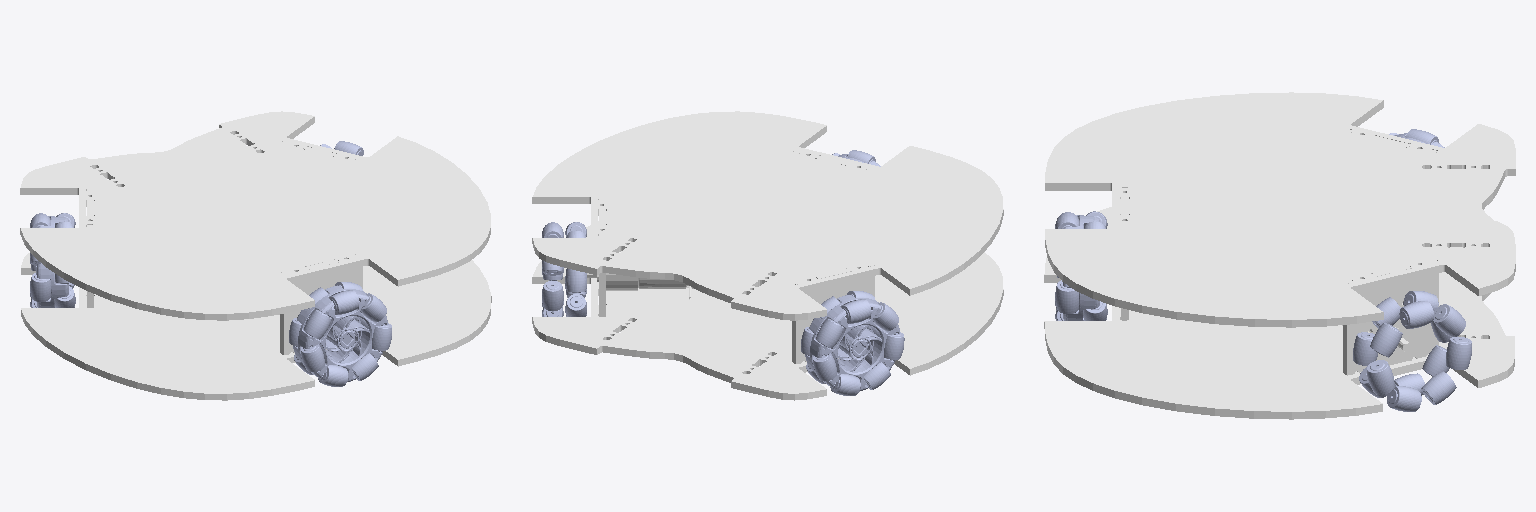
--- What the picture shows (computed from the rendered views, not written in the file) ---
3 views of the same robot in one strip: view 1: azimuth 30°, elevation 25°; view 2: azimuth 150°, elevation 25°; view 3: azimuth 270°, elevation 25° (orthographic).
Model test with 46 links and 45 joints (45 continuous), rooted at base_link, posed all joints at 0.
Links seen in each view (by area): view 1: base_link, Omniwheel2, Omniwheel1, Roller26, Roller27; view 2: base_link, Omniwheel1, Roller32, Roller16, Roller17; view 3: base_link, Roller35, Roller37, Roller32, Roller31, Roller34, Roller33, Roller36, Omniwheel2, Roller313, Roller22, Roller310.
Link boxes in pixels (left/top/right/bottom): base_link: left=20, top=111, right=491, bottom=400; Omniwheel2: left=293, top=285, right=387, bottom=381; Omniwheel1: left=36, top=216, right=68, bottom=307; Roller26: left=304, top=310, right=331, bottom=339; Roller27: left=330, top=290, right=358, bottom=314; base_link: left=532, top=111, right=1003, bottom=400; Omniwheel1: left=805, top=295, right=899, bottom=391; Roller32: left=542, top=281, right=563, bottom=310; Roller16: left=816, top=319, right=843, bottom=348; Roller17: left=842, top=299, right=871, bottom=323; base_link: left=1044, top=92, right=1515, bottom=419; Roller35: left=1367, top=360, right=1394, bottom=394; Roller37: left=1399, top=301, right=1433, bottom=328; Roller32: left=1446, top=337, right=1471, bottom=369; Roller31: left=1433, top=304, right=1465, bottom=336; Roller34: left=1387, top=386, right=1421, bottom=411; Roller33: left=1421, top=371, right=1456, bottom=404; Roller36: left=1370, top=323, right=1402, bottom=357; Omniwheel2: left=1063, top=215, right=1099, bottom=320; Roller313: left=1353, top=332, right=1377, bottom=365; Roller22: left=1055, top=280, right=1078, bottom=313; Roller310: left=1422, top=345, right=1449, bottom=376.
Bounding box of the posed robot: 0.3188 × 0.2788 × 0.077 m (x, y, z).
Meshes: 46 distinct files referenced, 45 mesh visuals loaded (45 binary STL); not drawn: 1 (reference not matched to a file when rendering).

The robot description file, URDF, robot "test":
<?xml version="1.0"?>
<robot
  name="test">
  <link
    name="base_link">
    <inertial>
      <origin
        xyz="0.135454608912068 -0.254330578207179 0.19184296731081"
        rpy="0 0 0" />
      <mass
        value="0.896698981932657" />
      <inertia
        ixx="0.00477033286145432"
        ixy="-1.09784258929473E-06"
        ixz="9.96523019987134E-07"
        iyy="0.00587551915336671"
        iyz="3.87423949994858E-06"
        izz="0.00937782568031088" />
    </inertial>
    <visual>
      <origin
        xyz="0 0 0"
        rpy="0 0 0" />
      <geometry>
        <mesh
          filename="package://robotont_description/meshes/base_link.STL" />
      </geometry>
      <material
        name="">
        <color
          rgba="1 1 1 1" />
      </material>
    </visual>
    <collision>
      <origin
        xyz="0 0 0"
        rpy="0 0 0" />
      <geometry>
        <mesh
          filename="package://robotont_description/meshes/base_link.STL" />
      </geometry>
    </collision>
  </link>
  <link
    name="Omniwheel1">
    <inertial>
      <origin
        xyz="5.51113170932371E-08 6.17646006839667E-07 -9.66083362752279E-08"
        rpy="0 0 0" />
      <mass
        value="0.0224355329965772" />
      <inertia
        ixx="5.90693784127277E-06"
        ixy="2.47484572726089E-10"
        ixz="4.4624205190751E-11"
        iyy="5.90478833236192E-06"
        iyz="1.76931517153296E-10"
        izz="1.03011794339244E-05" />
    </inertial>
    <visual>
      <origin
        xyz="0 0 0"
        rpy="0 0 0" />
      <geometry>
        <mesh
          filename="package://robotont_description/meshes/Omniwheel1.STL" />
      </geometry>
      <material
        name="">
        <color
          rgba="0.792156862745098 0.819607843137255 0.933333333333333 1" />
      </material>
    </visual>
    <collision>
      <origin
        xyz="0 0 0"
        rpy="0 0 0" />
      <geometry>
        <mesh
          filename="package://robotont_description/meshes/Omniwheel1.STL" />
      </geometry>
    </collision>
  </link>
  <joint
    name="Axle1"
    type="continuous">
    <origin
      xyz="0.022326481506329 -0.176779457314387 0.182850551353376"
      rpy="1.5707963267949 0.836473203822852 -2.09439510239319" />
    <parent
      link="base_link" />
    <child
      link="Omniwheel1" />
    <axis
      xyz="0 0 -1" />
  </joint>
  <link
    name="Roller11">
    <inertial>
      <origin
        xyz="0.0090562476933763 -6.24358922374224E-06 2.4370655343775E-07"
        rpy="0 0 0" />
      <mass
        value="0.00222805970857661" />
      <inertia
        ixx="6.29206948993392E-08"
        ixy="4.88962427812512E-13"
        ixz="3.19630145455555E-12"
        iyy="8.63043199686779E-08"
        iyz="6.68903337025076E-13"
        izz="8.63116179634987E-08" />
    </inertial>
    <visual>
      <origin
        xyz="0 0 0"
        rpy="0 0 0" />
      <geometry>
        <mesh
          filename="package://robotont_description/meshes/Roller11.STL" />
      </geometry>
      <material
        name="">
        <color
          rgba="0.792156862745098 0.819607843137255 0.933333333333333 1" />
      </material>
    </visual>
    <collision>
      <origin
        xyz="0 0 0"
        rpy="0 0 0" />
      <geometry>
        <mesh
          filename="package://robotont_description/meshes/Roller11.STL" />
      </geometry>
    </collision>
  </link>
  <joint
    name="Roller11"
    type="continuous">
    <origin
      xyz="-0.00905600884677152 0.0275059261982972 0.00800224940532278"
      rpy="0.362770953244145 -2.22044604925031E-16 1.0547118733939E-15" />
    <parent
      link="Omniwheel1" />
    <child
      link="Roller11" />
    <axis
      xyz="-1 0 0" />
  </joint>
  <link
    name="Roller12">
    <inertial>
      <origin
        xyz="0.00905625003048635 -6.24642743179971E-06 7.53208425380292E-07"
        rpy="0 0 0" />
      <mass
        value="0.00222805300985277" />
      <inertia
        ixx="6.29215432528039E-08"
        ixy="5.17309284687423E-13"
        ixz="2.31231138228572E-12"
        iyy="8.63038695173611E-08"
        iyz="7.08851473534721E-13"
        izz="8.63126289968283E-08" />
    </inertial>
    <visual>
      <origin
        xyz="0 0 0"
        rpy="0 0 0" />
      <geometry>
        <mesh
          filename="package://robotont_description/meshes/Roller12.STL" />
      </geometry>
      <material
        name="">
        <color
          rgba="0.792156862745098 0.819607843137255 0.933333333333333 1" />
      </material>
    </visual>
    <collision>
      <origin
        xyz="0 0 0"
        rpy="0 0 0" />
      <geometry>
        <mesh
          filename="package://robotont_description/meshes/Roller12.STL" />
      </geometry>
    </collision>
  </link>
  <joint
    name="Roller12"
    type="continuous">
    <origin
      xyz="0.0158586698947665 0.0242299372972322 0.00800224940532278"
      rpy="0.362770953711663 4.96327464162194E-05 -0.897579061938864" />
    <parent
      link="Omniwheel1" />
    <child
      link="Roller12" />
    <axis
      xyz="-0.99999999859084 0 -5.30878583583499E-05" />
  </joint>
  <link
    name="Roller13">
    <inertial>
      <origin
        xyz="0.00905624899799087 -6.24372596449985E-06 6.5074332976367E-07"
        rpy="0 0 0" />
      <mass
        value="0.00222805817486766" />
      <inertia
        ixx="6.2920956704011E-08"
        ixy="4.92440082823917E-13"
        ixz="2.2075654857175E-12"
        iyy="8.63043189882584E-08"
        iyz="6.78768649134798E-13"
        izz="8.63118155685825E-08" />
    </inertial>
    <visual>
      <origin
        xyz="0 0 0"
        rpy="0 0 0" />
      <geometry>
        <mesh
          filename="package://robotont_description/meshes/Roller13.STL" />
      </geometry>
      <material
        name="">
        <color
          rgba="0.792156862745098 0.819607843137255 0.933333333333333 1" />
      </material>
    </visual>
    <collision>
      <origin
        xyz="0 0 0"
        rpy="0 0 0" />
      <geometry>
        <mesh
          filename="package://robotont_description/meshes/Roller13.STL" />
      </geometry>
    </collision>
  </link>
  <joint
    name="Roller13"
    type="continuous">
    <origin
      xyz="0.0288314467476335 0.00270831141070441 0.00800224940532276"
      rpy="0.362770953568811 4.136062353274E-05 -1.79518010281175" />
    <parent
      link="Omniwheel1" />
    <child
      link="Roller13" />
    <axis
      xyz="-0.999999999021416 0 -4.42398835954205E-05" />
  </joint>
  <link
    name="Roller14">
    <inertial>
      <origin
        xyz="0.00905624982969072 -6.24595132203698E-06 6.17445233580538E-07"
        rpy="0 0 0" />
      <mass
        value="0.00222804814526446" />
      <inertia
        ixx="6.2922151464818E-08"
        ixy="5.00883276809346E-13"
        ixz="2.98267698300251E-12"
        iyy="8.63035277887356E-08"
        iyz="7.65745141657323E-13"
        izz="8.6313410072764E-08" />
    </inertial>
    <visual>
      <origin
        xyz="0 0 0"
        rpy="0 0 0" />
      <geometry>
        <mesh
          filename="package://robotont_description/meshes/Roller14.STL" />
      </geometry>
      <material
        name="">
        <color
          rgba="0.792156862745098 0.819607843137255 0.933333333333333 1" />
      </material>
    </visual>
    <collision>
      <origin
        xyz="0 0 0"
        rpy="0 0 0" />
      <geometry>
        <mesh
          filename="package://robotont_description/meshes/Roller14.STL" />
      </geometry>
    </collision>
  </link>
  <joint
    name="Roller14"
    type="continuous">
    <origin
      xyz="0.0200935561451987 -0.0208527282075686 0.00800224940532276"
      rpy="0.36277095345193 3.30884973664274E-05 -2.69278114368587" />
    <parent
      link="Omniwheel1" />
    <child
      link="Roller14" />
    <axis
      xyz="0.999999999373706 0 3.53919053181495E-05" />
  </joint>
  <link
    name="Roller15">
    <inertial>
      <origin
        xyz="0.00905624987976852 -6.24513404964833E-06 4.87126271431215E-07"
        rpy="0 0 0" />
      <mass
        value="0.00222805836001247" />
      <inertia
        ixx="6.29209661808733E-08"
        ixy="6.21947992051887E-13"
        ixz="2.61039403778903E-12"
        iyy="8.6304315415605E-08"
        iyz="8.09887301604748E-13"
        izz="8.63117986071289E-08" />
    </inertial>
    <visual>
      <origin
        xyz="0 0 0"
        rpy="0 0 0" />
      <geometry>
        <mesh
          filename="package://robotont_description/meshes/Roller15.STL" />
      </geometry>
      <material
        name="">
        <color
          rgba="0.792156862745098 0.819607843137255 0.933333333333333 1" />
      </material>
    </visual>
    <collision>
      <origin
        xyz="0 0 0"
        rpy="0 0 0" />
      <geometry>
        <mesh
          filename="package://robotont_description/meshes/Roller15.STL" />
      </geometry>
    </collision>
  </link>
  <joint
    name="Roller15"
    type="continuous">
    <origin
      xyz="-0.00377519206841899 -0.0287112381674063 0.00800224940532274"
      rpy="0.362770953361024 2.48163744035266E-05 2.6928031226208" />
    <parent
      link="Omniwheel1" />
    <child
      link="Roller15" />
    <axis
      xyz="0.99999999964771 0 2.65439304654308E-05" />
  </joint>
  <link
    name="Roller16">
    <inertial>
      <origin
        xyz="0.00905625171281951 -6.24549699594634E-06 4.67055512903825E-07"
        rpy="0 0 0" />
      <mass
        value="0.00222804542902184" />
      <inertia
        ixx="6.29227702499175E-08"
        ixy="4.97216980945624E-13"
        ixz="3.4246678879344E-12"
        iyy="8.63036751661587E-08"
        iyz="7.99146560214892E-13"
        izz="8.63137764245749E-08" />
    </inertial>
    <visual>
      <origin
        xyz="0 0 0"
        rpy="0 0 0" />
      <geometry>
        <mesh
          filename="package://robotont_description/meshes/Roller16.STL" />
      </geometry>
      <material
        name="">
        <color
          rgba="0.792156862745098 0.819607843137255 0.933333333333333 1" />
      </material>
    </visual>
    <collision>
      <origin
        xyz="0 0 0"
        rpy="0 0 0" />
      <geometry>
        <mesh
          filename="package://robotont_description/meshes/Roller16.STL" />
      </geometry>
    </collision>
  </link>
  <joint
    name="Roller16"
    type="continuous">
    <origin
      xyz="-0.0248011436546332 -0.0149496001846614 0.00800224940532276"
      rpy="0.362770953296091 1.65442494603261E-05 1.79520208174714" />
    <parent
      link="Omniwheel1" />
    <child
      link="Roller16" />
    <axis
      xyz="0.999999999843426 0 1.76959534931714E-05" />
  </joint>
  <link
    name="Roller17">
    <inertial>
      <origin
        xyz="0.00905624714251091 -6.24411402405656E-06 3.31840344425238E-07"
        rpy="0 0 0" />
      <mass
        value="0.00222805825576709" />
      <inertia
        ixx="6.29207927439633E-08"
        ixy="5.05419677413105E-13"
        ixz="3.13865668059066E-12"
        iyy="8.63040811412927E-08"
        iyz="7.29478493580458E-13"
        izz="8.63119038700248E-08" />
    </inertial>
    <visual>
      <origin
        xyz="0 0 0"
        rpy="0 0 0" />
      <geometry>
        <mesh
          filename="package://robotont_description/meshes/Roller17.STL" />
      </geometry>
      <material
        name="">
        <color
          rgba="0.792156862745098 0.819607843137255 0.933333333333333 1" />
      </material>
    </visual>
    <collision>
      <origin
        xyz="0 0 0"
        rpy="0 0 0" />
      <geometry>
        <mesh
          filename="package://robotont_description/meshes/Roller17.STL" />
      </geometry>
    </collision>
  </link>
  <joint
    name="Roller17"
    type="continuous">
    <origin
      xyz="-0.0271513282177754 0.0100693916534027 0.00800224940532278"
      rpy="0.362770953257132 8.27212416175113E-06 0.897601040873349" />
    <parent
      link="Omniwheel1" />
    <child
      link="Roller17" />
    <axis
      xyz="-0.222517872822441 0.911476772960516 -0.345970936103106" />
  </joint>
  <link
    name="Roller18">
    <inertial>
      <origin
        xyz="0.00905625145856824 -6.24761901268922E-06 1.0163672875263E-06"
        rpy="0 0 0" />
      <mass
        value="0.00222804667573871" />
      <inertia
        ixx="6.29224688547726E-08"
        ixy="5.17012520909878E-13"
        ixz="1.97593000955424E-12"
        iyy="8.63035856870094E-08"
        iyz="7.59631533987743E-13"
        izz="8.63135844877172E-08" />
    </inertial>
    <visual>
      <origin
        xyz="0 0 0"
        rpy="0 0 0" />
      <geometry>
        <mesh
          filename="package://robotont_description/meshes/Roller18.STL" />
      </geometry>
      <material
        name="">
        <color
          rgba="0.792156862745098 0.819607843137255 0.933333333333333 1" />
      </material>
    </visual>
    <collision>
      <origin
        xyz="0 0 0"
        rpy="0 0 0" />
      <geometry>
        <mesh
          filename="package://robotont_description/meshes/Roller18.STL" />
      </geometry>
    </collision>
  </link>
  <joint
    name="Roller18"
    type="continuous">
    <origin
      xyz="-0.00377094534323913 0.0287024197517056 -0.00799497322847986"
      rpy="0.915756260970597 4.81813406636344E-05 -2.69273098229598" />
    <parent
      link="Omniwheel1" />
    <child
      link="Roller18" />
    <axis
      xyz="0.999999996872331 0 7.90906943926584E-05" />
  </joint>
  <link
    name="Roller19">
    <inertial>
      <origin
        xyz="0.00905625100119239 -6.24603636639742E-06 7.84478363977104E-07"
        rpy="0 0 0" />
      <mass
        value="0.00222805805773092" />
      <inertia
        ixx="6.29210768819761E-08"
        ixy="5.50551055703456E-13"
        ixz="1.81992887215392E-12"
        iyy="8.63044063542196E-08"
        iyz="7.21834398562332E-13"
        izz="8.63117964118533E-08" />
    </inertial>
    <visual>
      <origin
        xyz="0 0 0"
        rpy="0 0 0" />
      <geometry>
        <mesh
          filename="package://robotont_description/meshes/Roller19.STL" />
      </geometry>
      <material
        name="">
        <color
          rgba="0.792156862745098 0.819607843137255 0.933333333333333 1" />
      </material>
    </visual>
    <collision>
      <origin
        xyz="0 0 0"
        rpy="0 0 0" />
      <geometry>
        <mesh
          filename="package://robotont_description/meshes/Roller19.STL" />
      </geometry>
    </collision>
  </link>
  <joint
    name="Roller19"
    type="continuous">
    <origin
      xyz="0.0200893094200195 0.0208439097918678 -0.00799497322847988"
      rpy="0.915756260309541 3.61360050554162E-05 2.69284074366209" />
    <parent
      link="Omniwheel1" />
    <child
      link="Roller19" />
    <axis
      xyz="0.999999998240686 0 5.93180200797877E-05" />
  </joint>
  <link
    name="Roller110">
    <inertial>
      <origin
        xyz="0.00905625316147435 -6.24701480489431E-06 6.53889737821378E-07"
        rpy="0 0 0" />
      <mass
        value="0.00222804736414082" />
      <inertia
        ixx="6.29226595794278E-08"
        ixy="4.5294929858025E-13"
        ixz="2.76577683882858E-12"
        iyy="8.6303969161013E-08"
        iyz="7.09513676744389E-13"
        izz="8.63134357662986E-08" />
    </inertial>
    <visual>
      <origin
        xyz="0 0 0"
        rpy="0 0 0" />
      <geometry>
        <mesh
          filename="package://robotont_description/meshes/Roller110.STL" />
      </geometry>
      <material
        name="">
        <color
          rgba="0.792156862745098 0.819607843137255 0.933333333333333 1" />
      </material>
    </visual>
    <collision>
      <origin
        xyz="0 0 0"
        rpy="0 0 0" />
      <geometry>
        <mesh
          filename="package://robotont_description/meshes/Roller110.STL" />
      </geometry>
    </collision>
  </link>
  <joint
    name="Roller110"
    type="continuous">
    <origin
      xyz="0.0288219044427726 -0.0027104893795199 -0.00799497322847986"
      rpy="0.915756259837358 2.40906703969355E-05 1.79522716244185" />
    <parent
      link="Omniwheel1" />
    <child
      link="Roller110" />
    <axis
      xyz="0.999999999218083 0 3.95453473158447E-05" />
  </joint>
  <link
    name="Roller111">
    <inertial>
      <origin
        xyz="0.00905624625161292 -6.24320986174209E-06 4.21781121529019E-07"
        rpy="0 0 0" />
      <mass
        value="0.00222806016762835" />
      <inertia
        ixx="6.29205128052935E-08"
        ixy="5.80147212656581E-13"
        ixz="2.78720535245339E-12"
        iyy="8.63041758522932E-08"
        iyz="7.96508920863276E-13"
        izz="8.63116044635527E-08" />
    </inertial>
    <visual>
      <origin
        xyz="0 0 0"
        rpy="0 0 0" />
      <geometry>
        <mesh
          filename="package://robotont_description/meshes/Roller111.STL" />
      </geometry>
      <material
        name="">
        <color
          rgba="0.792156862745098 0.819607843137255 0.933333333333333 1" />
      </material>
    </visual>
    <collision>
      <origin
        xyz="0 0 0"
        rpy="0 0 0" />
      <geometry>
        <mesh
          filename="package://robotont_description/meshes/Roller111.STL" />
      </geometry>
    </collision>
  </link>
  <joint
    name="Roller111"
    type="continuous">
    <origin
      xyz="0.0158510175604117 -0.0242238347642219 -0.00799497322847989"
      rpy="0.915756259554049 1.20453338984942E-05 0.897613581219221" />
    <parent
      link="Omniwheel1" />
    <child
      link="Roller111" />
    <axis
      xyz="0.999999999804521 0 1.97726715280566E-05" />
  </joint>
  <link
    name="Roller112">
    <inertial>
      <origin
        xyz="0.00905624618941688 -6.24394835372841E-06 2.1996671284441E-07"
        rpy="0 0 0" />
      <mass
        value="0.00222806454853658" />
      <inertia
        ixx="6.2920067448706E-08"
        ixy="5.35910979423317E-13"
        ixz="2.91645592250475E-12"
        iyy="8.63046137513935E-08"
        iyz="6.6674956740383E-13"
        izz="8.63108639696968E-08" />
    </inertial>
    <visual>
      <origin
        xyz="0 0 0"
        rpy="0 0 0" />
      <geometry>
        <mesh
          filename="package://robotont_description/meshes/Roller112.STL" />
      </geometry>
      <material
        name="">
        <color
          rgba="0.792156862745098 0.819607843137255 0.933333333333333 1" />
      </material>
    </visual>
    <collision>
      <origin
        xyz="0 0 0"
        rpy="0 0 0" />
      <geometry>
        <mesh
          filename="package://robotont_description/meshes/Roller112.STL" />
      </geometry>
    </collision>
  </link>
  <joint
    name="Roller112"
    type="continuous">
    <origin
      xyz="-0.00905600884677145 -0.0274961384952869 -0.00799497322847989"
      rpy="0.915756259459612 -2.77555756156289E-16 1.22124532708767E-15" />
    <parent
      link="Omniwheel1" />
    <child
      link="Roller112" />
    <axis
      xyz="-1 0 0" />
  </joint>
  <link
    name="Roller113">
    <inertial>
      <origin
        xyz="0.00905625195426071 -6.24661762665957E-06 2.74506474134961E-07"
        rpy="0 0 0" />
      <mass
        value="0.00222805215455413" />
      <inertia
        ixx="6.29218607574591E-08"
        ixy="5.18625747546891E-13"
        ixz="3.52160152933215E-12"
        iyy="8.6304043308765E-08"
        iyz="7.34598956848397E-13"
        izz="8.63127290887446E-08" />
    </inertial>
    <visual>
      <origin
        xyz="0 0 0"
        rpy="0 0 0" />
      <geometry>
        <mesh
          filename="package://robotont_description/meshes/Roller113.STL" />
      </geometry>
      <material
        name="">
        <color
          rgba="0.792156862745098 0.819607843137255 0.933333333333333 1" />
      </material>
    </visual>
    <collision>
      <origin
        xyz="0 0 0"
        rpy="0 0 0" />
      <geometry>
        <mesh
          filename="package://robotont_description/meshes/Roller113.STL" />
      </geometry>
    </collision>
  </link>
  <joint
    name="Roller113"
    type="continuous">
    <origin
      xyz="-0.0271436758834209 -0.0100632891203918 -0.00799497322847989"
      rpy="0.915756259459612 1.94289029309402E-16 -0.897597901025656" />
    <parent
      link="Omniwheel1" />
    <child
      link="Roller113" />
    <axis
      xyz="-1 0 0" />
  </joint>
  <link
    name="Roller114">
    <inertial>
      <origin
        xyz="0.00905625010279834 -6.24547053149072E-06 1.19126770442568E-06"
        rpy="0 0 0" />
      <mass
        value="0.00222804854629662" />
      <inertia
        ixx="6.29222349335793E-08"
        ixy="4.15827932836481E-13"
        ixz="1.42816834261541E-12"
        iyy="8.63037292804102E-08"
        iyz="6.82678252433292E-13"
        izz="8.63133359189824E-08" />
    </inertial>
    <visual>
      <origin
        xyz="0 0 0"
        rpy="0 0 0" />
      <geometry>
        <mesh
          filename="package://robotont_description/meshes/Roller114.STL" />
      </geometry>
      <material
        name="">
        <color
          rgba="0.792156862745098 0.819607843137255 0.933333333333333 1" />
      </material>
    </visual>
    <collision>
      <origin
        xyz="0 0 0"
        rpy="0 0 0" />
      <geometry>
        <mesh
          filename="package://robotont_description/meshes/Roller114.STL" />
      </geometry>
    </collision>
  </link>
  <joint
    name="Roller114"
    type="continuous">
    <origin
      xyz="-0.024791601349772 0.0149474222158465 -0.00799497322847989"
      rpy="0.915756261820527 6.02266757044277E-05 -1.79511740107518" />
    <parent
      link="Omniwheel1" />
    <child
      link="Roller114" />
    <axis
      xyz="-0.999999995113017 0 -9.88633677644346E-05" />
  </joint>
  <link
    name="Omniwheel2">
    <inertial>
      <origin
        xyz="5.41212678006886E-08 6.17218780779583E-07 -9.69348333268449E-08"
        rpy="0 0 0" />
      <mass
        value="0.0224355229928124" />
      <inertia
        ixx="5.90693757523995E-06"
        ixy="2.47313010648911E-10"
        ixz="4.42240924361494E-11"
        iyy="5.90478822289202E-06"
        iyz="1.7756477578438E-10"
        izz="1.03011782727051E-05" />
    </inertial>
    <visual>
      <origin
        xyz="0 0 0"
        rpy="0 0 0" />
      <geometry>
        <mesh
          filename="package://robotont_description/meshes/Omniwheel2.STL" />
      </geometry>
      <material
        name="">
        <color
          rgba="0.792156862745098 0.819607843137255 0.933333333333333 1" />
      </material>
    </visual>
    <collision>
      <origin
        xyz="0 0 0"
        rpy="0 0 0" />
      <geometry>
        <mesh
          filename="package://robotont_description/meshes/Omniwheel2.STL" />
      </geometry>
    </collision>
  </link>
  <joint
    name="Axle2"
    type="continuous">
    <origin
      xyz="0.135408219510917 -0.372642772946523 0.182850551353376"
      rpy="1.5707963267949 0.836473203822852 -6.782769887674E-17" />
    <parent
      link="base_link" />
    <child
      link="Omniwheel2" />
    <axis
      xyz="0 0 1" />
  </joint>
  <link
    name="Roller21">
    <inertial>
      <origin
        xyz="0.00905624807800218 -6.24327273396341E-06 2.51589222177717E-07"
        rpy="0 0 0" />
      <mass
        value="0.00222805815295261" />
      <inertia
        ixx="6.29209085009669E-08"
        ixy="4.69761783118323E-13"
        ixz="3.27613725276043E-12"
        iyy="8.63042438269798E-08"
        iyz="6.688918708658E-13"
        izz="8.63118579736287E-08" />
    </inertial>
    <visual>
      <origin
        xyz="0 0 0"
        rpy="0 0 0" />
      <geometry>
        <mesh
          filename="package://robotont_description/meshes/Roller21.STL" />
      </geometry>
      <material
        name="">
        <color
          rgba="0.792156862745098 0.819607843137255 0.933333333333333 1" />
      </material>
    </visual>
    <collision>
      <origin
        xyz="0 0 0"
        rpy="0 0 0" />
      <geometry>
        <mesh
          filename="package://robotont_description/meshes/Roller21.STL" />
      </geometry>
    </collision>
  </link>
  <joint
    name="Roller21"
    type="continuous">
    <origin
      xyz="-0.00905600884677153 0.0275059261982972 0.00800224940532274"
      rpy="0.362770953244145 0 1.11022302462516E-15" />
    <parent
      link="Omniwheel2" />
    <child
      link="Roller21" />
    <axis
      xyz="-1 0 0" />
  </joint>
  <link
    name="Roller22">
    <inertial>
      <origin
        xyz="0.00905625083989886 -6.24661141984673E-06 7.53096852768032E-07"
        rpy="0 0 0" />
      <mass
        value="0.00222805285160954" />
      <inertia
        ixx="6.29216461117548E-08"
        ixy="5.08938350442107E-13"
        ixz="2.28576271572672E-12"
        iyy="8.63039608776603E-08"
        iyz="7.0106194851076E-13"
        izz="8.63126297508331E-08" />
    </inertial>
    <visual>
      <origin
        xyz="0 0 0"
        rpy="0 0 0" />
      <geometry>
        <mesh
          filename="package://robotont_description/meshes/Roller22.STL" />
      </geometry>
      <material
        name="">
        <color
          rgba="0.792156862745098 0.819607843137255 0.933333333333333 1" />
      </material>
    </visual>
    <collision>
      <origin
        xyz="0 0 0"
        rpy="0 0 0" />
      <geometry>
        <mesh
          filename="package://robotont_description/meshes/Roller22.STL" />
      </geometry>
    </collision>
  </link>
  <joint
    name="Roller22"
    type="continuous">
    <origin
      xyz="0.0158586698947665 0.0242299372972323 0.00800224940532274"
      rpy="0.362770953711663 4.96327464161286E-05 -0.897579061938864" />
    <parent
      link="Omniwheel2" />
    <child
      link="Roller22" />
    <axis
      xyz="-0.99999999859084 0 -5.30878583579128E-05" />
  </joint>
  <link
    name="Roller23">
    <inertial>
      <origin
        xyz="0.00905624721180887 -6.24211011457376E-06 6.33942279393285E-07"
        rpy="0 0 0" />
      <mass
        value="0.00222806201419234" />
      <inertia
        ixx="6.29204492785542E-08"
        ixy="5.98048210863455E-13"
        ixz="2.00513142402598E-12"
        iyy="8.63045317982439E-08"
        iyz="7.9198993407818E-13"
        izz="8.631125287325E-08" />
    </inertial>
    <visual>
      <origin
        xyz="0 0 0"
        rpy="0 0 0" />
      <geometry>
        <mesh
          filename="package://robotont_description/meshes/Roller23.STL" />
      </geometry>
      <material
        name="">
        <color
          rgba="0.792156862745098 0.819607843137255 0.933333333333333 1" />
      </material>
    </visual>
    <collision>
      <origin
        xyz="0 0 0"
        rpy="0 0 0" />
      <geometry>
        <mesh
          filename="package://robotont_description/meshes/Roller23.STL" />
      </geometry>
    </collision>
  </link>
  <joint
    name="Roller23"
    type="continuous">
    <origin
      xyz="0.0288314467476335 0.00270831141070441 0.00800224940532274"
      rpy="0.36277095356881 4.13606235323142E-05 -1.79518010281175" />
    <parent
      link="Omniwheel2" />
    <child
      link="Roller23" />
    <axis
      xyz="-0.999999999021416 0 -4.42398835952817E-05" />
  </joint>
  <link
    name="Roller24">
    <inertial>
      <origin
        xyz="0.00905625159806799 -6.24517127065238E-06 6.06707110051286E-07"
        rpy="0 0 0" />
      <mass
        value="0.00222804994084183" />
      <inertia
        ixx="6.2922151116949E-08"
        ixy="5.23614956504236E-13"
        ixz="2.81020935708934E-12"
        iyy="8.63039044385424E-08"
        iyz="7.92724737626576E-13"
        izz="8.63130949111851E-08" />
    </inertial>
    <visual>
      <origin
        xyz="0 0 0"
        rpy="0 0 0" />
      <geometry>
        <mesh
          filename="package://robotont_description/meshes/Roller24.STL" />
      </geometry>
      <material
        name="">
        <color
          rgba="0.792156862745098 0.819607843137255 0.933333333333333 1" />
      </material>
    </visual>
    <collision>
      <origin
        xyz="0 0 0"
        rpy="0 0 0" />
      <geometry>
        <mesh
          filename="package://robotont_description/meshes/Roller24.STL" />
      </geometry>
    </collision>
  </link>
  <joint
    name="Roller24"
    type="continuous">
    <origin
      xyz="0.0200935561451987 -0.0208527282075686 0.00800224940532274"
      rpy="0.362770953451931 3.30884973659497E-05 -2.69278114368587" />
    <parent
      link="Omniwheel2" />
    <child
      link="Roller24" />
    <axis
      xyz="-0.999999999373707 0 -3.53919053184271E-05" />
  </joint>
  <link
    name="Roller25">
    <inertial>
      <origin
        xyz="0.00905624986061815 -6.24502850865571E-06 4.88103026219378E-07"
        rpy="0 0 0" />
      <mass
        value="0.00222805817783925" />
      <inertia
        ixx="6.29209838185494E-08"
        ixy="6.14234058942192E-13"
        ixz="2.62100012636904E-12"
        iyy="8.63043028972297E-08"
        iyz="8.02184453816313E-13"
        izz="8.63118240867367E-08" />
    </inertial>
    <visual>
      <origin
        xyz="0 0 0"
        rpy="0 0 0" />
      <geometry>
        <mesh
          filename="package://robotont_description/meshes/Roller25.STL" />
      </geometry>
      <material
        name="">
        <color
          rgba="0.792156862745098 0.819607843137255 0.933333333333333 1" />
      </material>
    </visual>
    <collision>
      <origin
        xyz="0 0 0"
        rpy="0 0 0" />
      <geometry>
        <mesh
          filename="package://robotont_description/meshes/Roller25.STL" />
      </geometry>
    </collision>
  </link>
  <joint
    name="Roller25"
    type="continuous">
    <origin
      xyz="-0.00377519206841903 -0.0287112381674063 0.00800224940532274"
      rpy="0.362770953361025 2.48163744033955E-05 2.6928031226208" />
    <parent
      link="Omniwheel2" />
    <child
      link="Roller25" />
    <axis
      xyz="0.99999999964771 0 2.65439304655279E-05" />
  </joint>
  <link
    name="Roller26">
    <inertial>
      <origin
        xyz="0.0090563 -6.2452E-06 2.8554E-07"
        rpy="0 0 0" />
      <mass
        value="0.0022281" />
      <inertia
        ixx="6.2922E-08"
        ixy="4.8008E-13"
        ixz="3.6315E-12"
        iyy="8.6304E-08"
        iyz="7.3482E-13"
        izz="8.6313E-08" />
    </inertial>
    <visual>
      <origin
        xyz="0 0 0"
        rpy="0 0 0" />
      <geometry>
        <mesh
          filename="package://robotont_description/meshes/Roller26.STL" />
      </geometry>
      <material
        name="">
        <color
          rgba="0.79216 0.81961 0.93333 1" />
      </material>
    </visual>
    <collision>
      <origin
        xyz="0 0 0"
        rpy="0 0 0" />
      <geometry>
        <mesh
          filename="package://robotont_description/meshes/Roller26.STL" />
      </geometry>
    </collision>
  </link>
  <joint
    name="Roller26"
    type="continuous">
    <origin
      xyz="-0.0248011436546332 -0.0149496001846614 0.00800224940532274"
      rpy="0.362770953244145 2.77555756156289E-17 1.7951958020513" />
    <parent
      link="Omniwheel2" />
    <child
      link="Roller26" />
    <axis
      xyz="1 0 0" />
  </joint>
  <link
    name="Roller27">
    <inertial>
      <origin
        xyz="0.00905625075471189 -6.24757100714524E-06 3.47038065451333E-07"
        rpy="0 0 0" />
      <mass
        value="0.00222805388994341" />
      <inertia
        ixx="6.29215041116412E-08"
        ixy="5.15111747288965E-13"
        ixz="3.28232993245941E-12"
        iyy="8.63039824659597E-08"
        iyz="6.95873336494847E-13"
        izz="8.63124929490107E-08" />
    </inertial>
    <visual>
      <origin
        xyz="0 0 0"
        rpy="0 0 0" />
      <geometry>
        <mesh
          filename="package://robotont_description/meshes/Roller27.STL" />
      </geometry>
      <material
        name="">
        <color
          rgba="0.792156862745098 0.819607843137255 0.933333333333333 1" />
      </material>
    </visual>
    <collision>
      <origin
        xyz="0 0 0"
        rpy="0 0 0" />
      <geometry>
        <mesh
          filename="package://robotont_description/meshes/Roller27.STL" />
      </geometry>
    </collision>
  </link>
  <joint
    name="Roller27"
    type="continuous">
    <origin
      xyz="-0.0271513282177754 0.0100693916534027 0.00800224940532274"
      rpy="0.362770953257132 8.27212416226734E-06 0.897601040873349" />
    <parent
      link="Omniwheel2" />
    <child
      link="Roller27" />
    <axis
      xyz="0.999999999960857 0 0" />
  </joint>
  <link
    name="Roller28">
    <inertial>
      <origin
        xyz="0.00905625140304254 -6.24630847245733E-06 9.94551070887528E-07"
        rpy="0 0 0" />
      <mass
        value="0.00222805161471968" />
      <inertia
        ixx="6.29219126349323E-08"
        ixy="4.79755033475369E-13"
        ixz="1.70735424447693E-12"
        iyy="8.63039923214094E-08"
        iyz="7.03938421706699E-13"
        izz="8.63128286775647E-08" />
    </inertial>
    <visual>
      <origin
        xyz="0 0 0"
        rpy="0 0 0" />
      <geometry>
        <mesh
          filename="package://robotont_description/meshes/Roller28.STL" />
      </geometry>
      <material
        name="">
        <color
          rgba="0.792156862745098 0.819607843137255 0.933333333333333 1" />
      </material>
    </visual>
    <collision>
      <origin
        xyz="0 0 0"
        rpy="0 0 0" />
      <geometry>
        <mesh
          filename="package://robotont_description/meshes/Roller28.STL" />
      </geometry>
    </collision>
  </link>
  <joint
    name="Roller28"
    type="continuous">
    <origin
      xyz="-0.00377094534323914 0.0287024197517057 -0.00799497322847992"
      rpy="0.915756260970598 4.81813406631331E-05 -2.69273098229598" />
    <parent
      link="Omniwheel2" />
    <child
      link="Roller28" />
    <axis
      xyz="-0.999999996872331 0 -7.90906943937686E-05" />
  </joint>
  <link
    name="Roller29">
    <inertial>
      <origin
        xyz="0.00905625050590911 -6.24563281481638E-06 7.86328083202115E-07"
        rpy="0 0 0" />
      <mass
        value="0.00222805776818381" />
      <inertia
        ixx="6.29210849871572E-08"
        ixy="5.52697186729643E-13"
        ixz="1.84893575033336E-12"
        iyy="8.63043467493517E-08"
        iyz="7.26030042868793E-13"
        izz="8.63118626592299E-08" />
    </inertial>
    <visual>
      <origin
        xyz="0 0 0"
        rpy="0 0 0" />
      <geometry>
        <mesh
          filename="package://robotont_description/meshes/Roller29.STL" />
      </geometry>
      <material
        name="">
        <color
          rgba="0.792156862745098 0.819607843137255 0.933333333333333 1" />
      </material>
    </visual>
    <collision>
      <origin
        xyz="0 0 0"
        rpy="0 0 0" />
      <geometry>
        <mesh
          filename="package://robotont_description/meshes/Roller29.STL" />
      </geometry>
    </collision>
  </link>
  <joint
    name="Roller29"
    type="continuous">
    <origin
      xyz="0.0200893094200194 0.0208439097918678 -0.00799497322847992"
      rpy="0.915756260309541 3.61360050552819E-05 2.69284074366209" />
    <parent
      link="Omniwheel2" />
    <child
      link="Roller29" />
    <axis
      xyz="0.999999998240686 0 5.93180200794685E-05" />
  </joint>
  <link
    name="Roller210">
    <inertial>
      <origin
        xyz="0.00905625025870094 -6.24576147684186E-06 2.73642241810368E-07"
        rpy="0 0 0" />
      <mass
        value="0.00222805296382808" />
      <inertia
        ixx="6.29216525263325E-08"
        ixy="4.56563755034497E-13"
        ixz="3.52110698734384E-12"
        iyy="8.63039822829956E-08"
        iyz="6.6773618140882E-13"
        izz="8.63126436905977E-08" />
    </inertial>
    <visual>
      <origin
        xyz="0 0 0"
        rpy="0 0 0" />
      <geometry>
        <mesh
          filename="package://robotont_description/meshes/Roller210.STL" />
      </geometry>
      <material
        name="">
        <color
          rgba="0.792156862745098 0.819607843137255 0.933333333333333 1" />
      </material>
    </visual>
    <collision>
      <origin
        xyz="0 0 0"
        rpy="0 0 0" />
      <geometry>
        <mesh
          filename="package://robotont_description/meshes/Roller210.STL" />
      </geometry>
    </collision>
  </link>
  <joint
    name="Roller210"
    type="continuous">
    <origin
      xyz="0.0288219044427726 -0.00271048937951987 -0.00799497322847992"
      rpy="0.915756259459612 2.77555756156289E-17 1.7951958020513" />
    <parent
      link="Omniwheel2" />
    <child
      link="Roller210" />
    <axis
      xyz="1 0 0" />
  </joint>
  <link
    name="Roller211">
    <inertial>
      <origin
        xyz="0.00905625009736497 -6.24753680372736E-06 2.67396127878738E-07"
        rpy="0 0 0" />
      <mass
        value="0.00222805394526054" />
      <inertia
        ixx="6.29214201640515E-08"
        ixy="5.14120182555752E-13"
        ixz="3.51806755764717E-12"
        iyy="8.63039014768048E-08"
        iyz="6.92290007526507E-13"
        izz="8.63124959788257E-08" />
    </inertial>
    <visual>
      <origin
        xyz="0 0 0"
        rpy="0 0 0" />
      <geometry>
        <mesh
          filename="package://robotont_description/meshes/Roller211.STL" />
      </geometry>
      <material
        name="">
        <color
          rgba="0.792156862745098 0.819607843137255 0.933333333333333 1" />
      </material>
    </visual>
    <collision>
      <origin
        xyz="0 0 0"
        rpy="0 0 0" />
      <geometry>
        <mesh
          filename="package://robotont_description/meshes/Roller211.STL" />
      </geometry>
    </collision>
  </link>
  <joint
    name="Roller211"
    type="continuous">
    <origin
      xyz="0.0158510175604116 -0.0242238347642219 -0.00799497322847992"
      rpy="0.915756259459612 -3.46944695195361E-18 0.897597901025644" />
    <parent
      link="Omniwheel2" />
    <child
      link="Roller211" />
    <axis
      xyz="1 0 0" />
  </joint>
  <link
    name="Roller212">
    <inertial>
      <origin
        xyz="0.00905624833524948 -6.24471633453583E-06 2.57828610877864E-07"
        rpy="0 0 0" />
      <mass
        value="0.00222805665066196" />
      <inertia
        ixx="6.29210651014638E-08"
        ixy="4.52292954560405E-13"
        ixz="3.37176231636936E-12"
        iyy="8.63040908847963E-08"
        iyz="6.33004143857182E-13"
        izz="8.63121003647034E-08" />
    </inertial>
    <visual>
      <origin
        xyz="0 0 0"
        rpy="0 0 0" />
      <geometry>
        <mesh
          filename="package://robotont_description/meshes/Roller212.STL" />
      </geometry>
      <material
        name="">
        <color
          rgba="0.792156862745098 0.819607843137255 0.933333333333333 1" />
      </material>
    </visual>
    <collision>
      <origin
        xyz="0 0 0"
        rpy="0 0 0" />
      <geometry>
        <mesh
          filename="package://robotont_description/meshes/Roller212.STL" />
      </geometry>
    </collision>
  </link>
  <joint
    name="Roller212"
    type="continuous">
    <origin
      xyz="-0.00905600884677145 -0.0274961384952869 -0.00799497322847992"
      rpy="0.915756259459612 2.77555756156289E-17 1.11022302462516E-15" />
    <parent
      link="Omniwheel2" />
    <child
      link="Roller212" />
    <axis
      xyz="-1 0 0" />
  </joint>
  <link
    name="Roller213">
    <inertial>
      <origin
        xyz="0.00905625038827729 -6.24714957603301E-06 2.70082327336052E-07"
        rpy="0 0 0" />
      <mass
        value="0.00222805342991146" />
      <inertia
        ixx="6.29215392613625E-08"
        ixy="4.75412124638346E-13"
        ixz="3.51422277495841E-12"
        iyy="8.63039504534327E-08"
        iyz="6.52644833542814E-13"
        izz="8.63125575545934E-08" />
    </inertial>
    <visual>
      <origin
        xyz="0 0 0"
        rpy="0 0 0" />
      <geometry>
        <mesh
          filename="package://robotont_description/meshes/Roller213.STL" />
      </geometry>
      <material
        name="">
        <color
          rgba="0.792156862745098 0.819607843137255 0.933333333333333 1" />
      </material>
    </visual>
    <collision>
      <origin
        xyz="0 0 0"
        rpy="0 0 0" />
      <geometry>
        <mesh
          filename="package://robotont_description/meshes/Roller213.STL" />
      </geometry>
    </collision>
  </link>
  <joint
    name="Roller213"
    type="continuous">
    <origin
      xyz="-0.0271436758834209 -0.0100632891203917 -0.00799497322847992"
      rpy="0.915756259459612 8.32667268468867E-17 -0.897597901025656" />
    <parent
      link="Omniwheel2" />
    <child
      link="Roller213" />
    <axis
      xyz="-1 0 0" />
  </joint>
  <link
    name="Roller214">
    <inertial>
      <origin
        xyz="0.00905624844929193 -6.24340922089628E-06 1.13442568000499E-06"
        rpy="0 0 0" />
      <mass
        value="0.00222806047866909" />
      <inertia
        ixx="6.29206971756931E-08"
        ixy="5.35801228841074E-13"
        ixz="7.8851027640791E-13"
        iyy="8.63044839632031E-08"
        iyz="7.13398993197881E-13"
        izz="8.63114749631663E-08" />
    </inertial>
    <visual>
      <origin
        xyz="0 0 0"
        rpy="0 0 0" />
      <geometry>
        <mesh
          filename="package://robotont_description/meshes/Roller214.STL" />
      </geometry>
      <material
        name="">
        <color
          rgba="0.792156862745098 0.819607843137255 0.933333333333333 1" />
      </material>
    </visual>
    <collision>
      <origin
        xyz="0 0 0"
        rpy="0 0 0" />
      <geometry>
        <mesh
          filename="package://robotont_description/meshes/Roller214.STL" />
      </geometry>
    </collision>
  </link>
  <joint
    name="Roller214"
    type="continuous">
    <origin
      xyz="-0.0247916013497721 0.0149474222158466 -0.00799497322847992"
      rpy="0.915756261820527 6.02266757040028E-05 -1.79511740107518" />
    <parent
      link="Omniwheel2" />
    <child
      link="Roller214" />
    <axis
      xyz="-0.999999995113017 0 -9.88633677652673E-05" />
  </joint>
  <link
    name="Omniwheel3">
    <inertial>
      <origin
        xyz="5.79720891846769E-08 6.16550302173779E-07 -1.01595565876744E-07"
        rpy="0 0 0" />
      <mass
        value="0.0224355457660329" />
      <inertia
        ixx="5.90693960138509E-06"
        ixy="2.47088910184485E-10"
        ixz="4.46332660155843E-11"
        iyy="5.90479088638833E-06"
        iyz="1.78727612458747E-10"
        izz="1.03011808936408E-05" />
    </inertial>
    <visual>
      <origin
        xyz="0 0 0"
        rpy="0 0 0" />
      <geometry>
        <mesh
          filename="package://robotont_description/meshes/Omniwheel3.STL" />
      </geometry>
      <material
        name="">
        <color
          rgba="0.792156862745098 0.819607843137255 0.933333333333333 1" />
      </material>
    </visual>
    <collision>
      <origin
        xyz="0 0 0"
        rpy="0 0 0" />
      <geometry>
        <mesh
          filename="package://robotont_description/meshes/Omniwheel3.STL" />
      </geometry>
    </collision>
  </link>
  <joint
    name="Axle3"
    type="continuous">
    <origin
      xyz="0.248589957515507 -0.176606252233622 0.182850551353376"
      rpy="1.5707963267949 0.836473203822853 2.0943951023932" />
    <parent
      link="base_link" />
    <child
      link="Omniwheel3" />
    <axis
      xyz="0 0 1" />
  </joint>
  <link
    name="Roller31">
    <inertial>
      <origin
        xyz="0.00905624787173681 -6.24528032648619E-06 2.38164003768526E-07"
        rpy="0 0 0" />
      <mass
        value="0.00222806045765569" />
      <inertia
        ixx="6.29205719908983E-08"
        ixy="5.39748648536602E-13"
        ixz="3.16639247755353E-12"
        iyy="8.63043162349114E-08"
        iyz="6.86996034465331E-13"
        izz="8.63114980991218E-08" />
    </inertial>
    <visual>
      <origin
        xyz="0 0 0"
        rpy="0 0 0" />
      <geometry>
        <mesh
          filename="package://robotont_description/meshes/Roller31.STL" />
      </geometry>
      <material
        name="">
        <color
          rgba="0.792156862745098 0.819607843137255 0.933333333333333 1" />
      </material>
    </visual>
    <collision>
      <origin
        xyz="0 0 0"
        rpy="0 0 0" />
      <geometry>
        <mesh
          filename="package://robotont_description/meshes/Roller31.STL" />
      </geometry>
    </collision>
  </link>
  <joint
    name="Roller31"
    type="continuous">
    <origin
      xyz="-0.00905600884677155 0.0275059261982972 0.00800224940532271"
      rpy="0.362770953244144 -1.11022302462516E-16 1.33226762955019E-15" />
    <parent
      link="Omniwheel3" />
    <child
      link="Roller31" />
    <axis
      xyz="-1 0 0" />
  </joint>
  <link
    name="Roller32">
    <inertial>
      <origin
        xyz="0.0094066547458293 -0.00232009403807068 -0.0022684794293622"
        rpy="0 0 0" />
      <mass
        value="0.00222805197029901" />
      <inertia
        ixx="6.29218448969414E-08"
        ixy="5.45081794735808E-13"
        ixz="2.30876605256421E-12"
        iyy="8.63039777826319E-08"
        iyz="7.78390974672018E-13"
        izz="8.63127773426886E-08" />
    </inertial>
    <visual>
      <origin
        xyz="0 0 0"
        rpy="0 0 0" />
      <geometry>
        <mesh
          filename="package://robotont_description/meshes/Roller32.STL" />
      </geometry>
      <material
        name="">
        <color
          rgba="0.792156862745098 0.819607843137255 0.933333333333333 1" />
      </material>
    </visual>
    <collision>
      <origin
        xyz="0 0 0"
        rpy="0 0 0" />
      <geometry>
        <mesh
          filename="package://robotont_description/meshes/Roller32.STL" />
      </geometry>
    </collision>
  </link>
  <joint
    name="Roller32"
    type="continuous">
    <origin
      xyz="0.0167019792096861 0.0253504825559626 0.010944921054306"
      rpy="0.362770953711663 4.96327464154839E-05 -0.897579061938864" />
    <parent
      link="Omniwheel3" />
    <child
      link="Roller32" />
    <axis
      xyz="-0.99999999859084 0 -5.30878583584436E-05" />
  </joint>
  <link
    name="Roller33">
    <inertial>
      <origin
        xyz="0.00905624559101892 -6.24126316231544E-06 6.35088969275222E-07"
        rpy="0 0 0" />
      <mass
        value="0.00222806223295386" />
      <inertia
        ixx="6.29203200931261E-08"
        ixy="5.16361822938806E-13"
        ixz="2.05238924467419E-12"
        iyy="8.63044313430891E-08"
        iyz="7.26100080340593E-13"
        izz="8.63112609556247E-08" />
    </inertial>
    <visual>
      <origin
        xyz="0 0 0"
        rpy="0 0 0" />
      <geometry>
        <mesh
          filename="package://robotont_description/meshes/Roller33.STL" />
      </geometry>
      <material
        name="">
        <color
          rgba="0.792156862745098 0.819607843137255 0.933333333333333 1" />
      </material>
    </visual>
    <collision>
      <origin
        xyz="0 0 0"
        rpy="0 0 0" />
      <geometry>
        <mesh
          filename="package://robotont_description/meshes/Roller33.STL" />
      </geometry>
    </collision>
  </link>
  <joint
    name="Roller33"
    type="continuous">
    <origin
      xyz="0.0288314467476335 0.00270831141070442 0.00800224940532276"
      rpy="0.36277095356881 4.13606235316853E-05 -1.79518010281175" />
    <parent
      link="Omniwheel3" />
    <child
      link="Roller33" />
    <axis
      xyz="0.999999999021417 0 4.42398835973912E-05" />
  </joint>
  <link
    name="Roller34">
    <inertial>
      <origin
        xyz="0.00905625143376976 -6.24790759800112E-06 6.16364556782489E-07"
        rpy="0 0 0" />
      <mass
        value="0.00222804787412911" />
      <inertia
        ixx="6.29223289044615E-08"
        ixy="4.50055316451044E-13"
        ixz="2.94031984429377E-12"
        iyy="8.63037054622645E-08"
        iyz="6.84950730663491E-13"
        izz="8.63133856974042E-08" />
    </inertial>
    <visual>
      <origin
        xyz="0 0 0"
        rpy="0 0 0" />
      <geometry>
        <mesh
          filename="package://robotont_description/meshes/Roller34.STL" />
      </geometry>
      <material
        name="">
        <color
          rgba="0.792156862745098 0.819607843137255 0.933333333333333 1" />
      </material>
    </visual>
    <collision>
      <origin
        xyz="0 0 0"
        rpy="0 0 0" />
      <geometry>
        <mesh
          filename="package://robotont_description/meshes/Roller34.STL" />
      </geometry>
    </collision>
  </link>
  <joint
    name="Roller34"
    type="continuous">
    <origin
      xyz="0.0200935561451987 -0.0208527282075686 0.00800224940532279"
      rpy="0.362770953451931 3.30884973658167E-05 -2.69278114368587" />
    <parent
      link="Omniwheel3" />
    <child
      link="Roller34" />
    <axis
      xyz="0.999999999373707 0 3.53919053182605E-05" />
  </joint>
  <link
    name="Roller35">
    <inertial>
      <origin
        xyz="0.00905624995479037 -6.24557252443259E-06 4.86696796836439E-07"
        rpy="0 0 0" />
      <mass
        value="0.00222805834897051" />
      <inertia
        ixx="6.29209806512652E-08"
        ixy="6.2008663988909E-13"
        ixz="2.60654690748146E-12"
        iyy="8.63043130196061E-08"
        iyz="7.99337421387891E-13"
        izz="8.63118109519943E-08" />
    </inertial>
    <visual>
      <origin
        xyz="0 0 0"
        rpy="0 0 0" />
      <geometry>
        <mesh
          filename="package://robotont_description/meshes/Roller35.STL" />
      </geometry>
      <material
        name="">
        <color
          rgba="0.792156862745098 0.819607843137255 0.933333333333333 1" />
      </material>
    </visual>
    <collision>
      <origin
        xyz="0 0 0"
        rpy="0 0 0" />
      <geometry>
        <mesh
          filename="package://robotont_description/meshes/Roller35.STL" />
      </geometry>
    </collision>
  </link>
  <joint
    name="Roller35"
    type="continuous">
    <origin
      xyz="-0.00377519206841903 -0.0287112381674062 0.00800224940532276"
      rpy="0.362770953361025 2.48163744038319E-05 2.6928031226208" />
    <parent
      link="Omniwheel3" />
    <child
      link="Roller35" />
    <axis
      xyz="0.99999999964771 0 2.65439304664439E-05" />
  </joint>
  <link
    name="Roller36">
    <inertial>
      <origin
        xyz="0.00905625104762144 -6.24611077354453E-06 4.62913676307908E-07"
        rpy="0 0 0" />
      <mass
        value="0.00222804656940515" />
      <inertia
        ixx="6.29225306252793E-08"
        ixy="4.72283946465801E-13"
        ixz="3.40170159428551E-12"
        iyy="8.6303644029232E-08"
        iyz="7.44540082317808E-13"
        izz="8.63136150869427E-08" />
    </inertial>
    <visual>
      <origin
        xyz="0 0 0"
        rpy="0 0 0" />
      <geometry>
        <mesh
          filename="package://robotont_description/meshes/Roller36.STL" />
      </geometry>
      <material
        name="">
        <color
          rgba="0.792156862745098 0.819607843137255 0.933333333333333 1" />
      </material>
    </visual>
    <collision>
      <origin
        xyz="0 0 0"
        rpy="0 0 0" />
      <geometry>
        <mesh
          filename="package://robotont_description/meshes/Roller36.STL" />
      </geometry>
    </collision>
  </link>
  <joint
    name="Roller36"
    type="continuous">
    <origin
      xyz="-0.0248011436546332 -0.0149496001846614 0.00800224940532274"
      rpy="0.362770953296091 1.65442494612698E-05 1.79520208174714" />
    <parent
      link="Omniwheel3" />
    <child
      link="Roller36" />
    <axis
      xyz="0.999999999843427 0 1.76959534889387E-05" />
  </joint>
  <link
    name="Roller37">
    <inertial>
      <origin
        xyz="0.00905624895709439 -6.24613275246322E-06 3.55229698906223E-07"
        rpy="0 0 0" />
      <mass
        value="0.00222805304022832" />
      <inertia
        ixx="6.29215166700992E-08"
        ixy="4.43264304285288E-13"
        ixz="3.38032033265257E-12"
        iyy="8.63038097226509E-08"
        iyz="6.68643801374989E-13"
        izz="8.63126909132346E-08" />
    </inertial>
    <visual>
      <origin
        xyz="0 0 0"
        rpy="0 0 0" />
      <geometry>
        <mesh
          filename="package://robotont_description/meshes/Roller37.STL" />
      </geometry>
      <material
        name="">
        <color
          rgba="0.792156862745098 0.819607843137255 0.933333333333333 1" />
      </material>
    </visual>
    <collision>
      <origin
        xyz="0 0 0"
        rpy="0 0 0" />
      <geometry>
        <mesh
          filename="package://robotont_description/meshes/Roller37.STL" />
      </geometry>
    </collision>
  </link>
  <joint
    name="Roller37"
    type="continuous">
    <origin
      xyz="-0.0271513282177754 0.0100693916534027 0.00800224940532274"
      rpy="0.362770953257131 8.27212416263931E-06 0.897601040873349" />
    <parent
      link="Omniwheel3" />
    <child
      link="Roller37" />
    <axis
      xyz="-0.999999999960857 0 0" />
  </joint>
  <link
    name="Roller38">
    <inertial>
      <origin
        xyz="0.00905624789574405 -6.24573164095116E-06 9.68911569504405E-07"
        rpy="0 0 0" />
      <mass
        value="0.00222805753419375" />
      <inertia
        ixx="6.29208587950535E-08"
        ixy="5.03805611046633E-13"
        ixz="1.51564747193346E-12"
        iyy="8.63040348496228E-08"
        iyz="6.63564101180102E-13"
        izz="8.6311963548113E-08" />
    </inertial>
    <visual>
      <origin
        xyz="0 0 0"
        rpy="0 0 0" />
      <geometry>
        <mesh
          filename="package://robotont_description/meshes/Roller38.STL" />
      </geometry>
      <material
        name="">
        <color
          rgba="0.792156862745098 0.819607843137255 0.933333333333333 1" />
      </material>
    </visual>
    <collision>
      <origin
        xyz="0 0 0"
        rpy="0 0 0" />
      <geometry>
        <mesh
          filename="package://robotont_description/meshes/Roller38.STL" />
      </geometry>
    </collision>
  </link>
  <joint
    name="Roller38"
    type="continuous">
    <origin
      xyz="-0.00377094534323918 0.0287024197517056 -0.00799497322847989"
      rpy="0.915756260970598 4.81813406629683E-05 -2.69273098229598" />
    <parent
      link="Omniwheel3" />
    <child
      link="Roller38" />
    <axis
      xyz="0.999999996872331 0 7.90906943933245E-05" />
  </joint>
  <link
    name="Roller39">
    <inertial>
      <origin
        xyz="0.00905625044881725 -6.24554927827758E-06 7.84030141962044E-07"
        rpy="0 0 0" />
      <mass
        value="0.00222805824992304" />
      <inertia
        ixx="6.29210276532831E-08"
        ixy="5.77427693313535E-13"
        ixz="1.82368679600854E-12"
        iyy="8.63043752824001E-08"
        iyz="7.54821829622173E-13"
        izz="8.63117923430472E-08" />
    </inertial>
    <visual>
      <origin
        xyz="0 0 0"
        rpy="0 0 0" />
      <geometry>
        <mesh
          filename="package://robotont_description/meshes/Roller39.STL" />
      </geometry>
      <material
        name="">
        <color
          rgba="0.792156862745098 0.819607843137255 0.933333333333333 1" />
      </material>
    </visual>
    <collision>
      <origin
        xyz="0 0 0"
        rpy="0 0 0" />
      <geometry>
        <mesh
          filename="package://robotont_description/meshes/Roller39.STL" />
      </geometry>
    </collision>
  </link>
  <joint
    name="Roller39"
    type="continuous">
    <origin
      xyz="0.0200893094200194 0.0208439097918677 -0.00799497322847993"
      rpy="0.915756260309542 3.61360050556799E-05 2.69284074366209" />
    <parent
      link="Omniwheel3" />
    <child
      link="Roller39" />
    <axis
      xyz="0.999999998240686 0 5.9318020079635E-05" />
  </joint>
  <link
    name="Roller310">
    <inertial>
      <origin
        xyz="0.00905625222249336 -6.2473636815441E-06 6.71365827570325E-07"
        rpy="0 0 0" />
      <mass
        value="0.00222804374997192" />
      <inertia
        ixx="6.29230745061036E-08"
        ixy="4.46612720152558E-13"
        ixz="2.96158483216721E-12"
        iyy="8.63036712718867E-08"
        iyz="7.33918204205309E-13"
        izz="8.63140165126992E-08" />
    </inertial>
    <visual>
      <origin
        xyz="0 0 0"
        rpy="0 0 0" />
      <geometry>
        <mesh
          filename="package://robotont_description/meshes/Roller310.STL" />
      </geometry>
      <material
        name="">
        <color
          rgba="0.792156862745098 0.819607843137255 0.933333333333333 1" />
      </material>
    </visual>
    <collision>
      <origin
        xyz="0 0 0"
        rpy="0 0 0" />
      <geometry>
        <mesh
          filename="package://robotont_description/meshes/Roller310.STL" />
      </geometry>
    </collision>
  </link>
  <joint
    name="Roller310"
    type="continuous">
    <origin
      xyz="0.0288219044427725 -0.0027104893795199 -0.00799497322847992"
      rpy="0.915756259837358 2.40906703979625E-05 1.79522716244185" />
    <parent
      link="Omniwheel3" />
    <child
      link="Roller310" />
    <axis
      xyz="0.999999999218083 0 3.95453473166496E-05" />
  </joint>
  <link
    name="Roller311">
    <inertial>
      <origin
        xyz="0.00905624835970248 -6.24465132428864E-06 4.57902463807391E-07"
        rpy="0 0 0" />
      <mass
        value="0.00222805243059925" />
      <inertia
        ixx="6.29215170641379E-08"
        ixy="5.20223051732387E-13"
        ixz="3.1877850345495E-12"
        iyy="8.63036766070656E-08"
        iyz="7.83995881071619E-13"
        izz="8.63128053203237E-08" />
    </inertial>
    <visual>
      <origin
        xyz="0 0 0"
        rpy="0 0 0" />
      <geometry>
        <mesh
          filename="package://robotont_description/meshes/Roller311.STL" />
      </geometry>
      <material
        name="">
        <color
          rgba="0.792156862745098 0.819607843137255 0.933333333333333 1" />
      </material>
    </visual>
    <collision>
      <origin
        xyz="0 0 0"
        rpy="0 0 0" />
      <geometry>
        <mesh
          filename="package://robotont_description/meshes/Roller311.STL" />
      </geometry>
    </collision>
  </link>
  <joint
    name="Roller311"
    type="continuous">
    <origin
      xyz="0.0158510175604116 -0.0242238347642219 -0.00799497322847988"
      rpy="0.915756259554048 1.20453338996044E-05 0.897613581219221" />
    <parent
      link="Omniwheel3" />
    <child
      link="Roller311" />
    <axis
      xyz="-0.999999999804521 0 -1.97726715267521E-05" />
  </joint>
  <link
    name="Roller312">
    <inertial>
      <origin
        xyz="0.0090562489265269 -6.24347960770377E-06 2.46051895802513E-07"
        rpy="0 0 0" />
      <mass
        value="0.00222805909473683" />
      <inertia
        ixx="6.29208677635619E-08"
        ixy="4.81038307883422E-13"
        ixz="3.18158805715812E-12"
        iyy="8.63044087601722E-08"
        iyz="6.69684137937493E-13"
        izz="8.6311673152322E-08" />
    </inertial>
    <visual>
      <origin
        xyz="0 0 0"
        rpy="0 0 0" />
      <geometry>
        <mesh
          filename="package://robotont_description/meshes/Roller312.STL" />
      </geometry>
      <material
        name="">
        <color
          rgba="0.792156862745098 0.819607843137255 0.933333333333333 1" />
      </material>
    </visual>
    <collision>
      <origin
        xyz="0 0 0"
        rpy="0 0 0" />
      <geometry>
        <mesh
          filename="package://robotont_description/meshes/Roller312.STL" />
      </geometry>
    </collision>
  </link>
  <joint
    name="Roller312"
    type="continuous">
    <origin
      xyz="-0.00905600884677144 -0.0274961384952869 -0.00799497322847989"
      rpy="0.915756259459611 -1.11022302462516E-16 1.27675647831893E-15" />
    <parent
      link="Omniwheel3" />
    <child
      link="Roller312" />
    <axis
      xyz="-1 0 0" />
  </joint>
  <link
    name="Roller313">
    <inertial>
      <origin
        xyz="0.00905625118942394 -6.2473828312537E-06 2.70984599981539E-07"
        rpy="0 0 0" />
      <mass
        value="0.00222805294277978" />
      <inertia
        ixx="6.29216704053611E-08"
        ixy="4.88768896677513E-13"
        ixz="3.50326432455678E-12"
        iyy="8.63040004929791E-08"
        iyz="6.57184999729148E-13"
        izz="8.6312611211984E-08" />
    </inertial>
    <visual>
      <origin
        xyz="0 0 0"
        rpy="0 0 0" />
      <geometry>
        <mesh
          filename="package://robotont_description/meshes/Roller313.STL" />
      </geometry>
      <material
        name="">
        <color
          rgba="0.792156862745098 0.819607843137255 0.933333333333333 1" />
      </material>
    </visual>
    <collision>
      <origin
        xyz="0 0 0"
        rpy="0 0 0" />
      <geometry>
        <mesh
          filename="package://robotont_description/meshes/Roller313.STL" />
      </geometry>
    </collision>
  </link>
  <joint
    name="Roller313"
    type="continuous">
    <origin
      xyz="-0.027143675883421 -0.0100632891203918 -0.00799497322847988"
      rpy="0.915756259459612 -5.96744875736022E-16 -0.897597901025656" />
    <parent
      link="Omniwheel3" />
    <child
      link="Roller313" />
    <axis
      xyz="-1 0 0" />
  </joint>
  <link
    name="Roller314">
    <inertial>
      <origin
        xyz="0.00905624765596219 -6.24247202157813E-06 1.14411365514933E-06"
        rpy="0 0 0" />
      <mass
        value="0.00222805889351307" />
      <inertia
        ixx="6.29208101465886E-08"
        ixy="4.93817546282784E-13"
        ixz="9.28428188516905E-13"
        iyy="8.63042910771102E-08"
        iyz="7.09403601173196E-13"
        izz="8.63117476348948E-08" />
    </inertial>
    <visual>
      <origin
        xyz="0 0 0"
        rpy="0 0 0" />
      <geometry>
        <mesh
          filename="package://robotont_description/meshes/Roller314.STL" />
      </geometry>
      <material
        name="">
        <color
          rgba="0.792156862745098 0.819607843137255 0.933333333333333 1" />
      </material>
    </visual>
    <collision>
      <origin
        xyz="0 0 0"
        rpy="0 0 0" />
      <geometry>
        <mesh
          filename="package://robotont_description/meshes/Roller314.STL" />
      </geometry>
    </collision>
  </link>
  <joint
    name="Roller314"
    type="continuous">
    <origin
      xyz="-0.0247916013497721 0.0149474222158465 -0.00799497322847988"
      rpy="0.915756261820527 6.02266757033729E-05 -1.79511740107518" />
    <parent
      link="Omniwheel3" />
    <child
      link="Roller314" />
    <axis
      xyz="0.999999995113017 0 9.88633677658605E-05" />
  </joint>
</robot>
